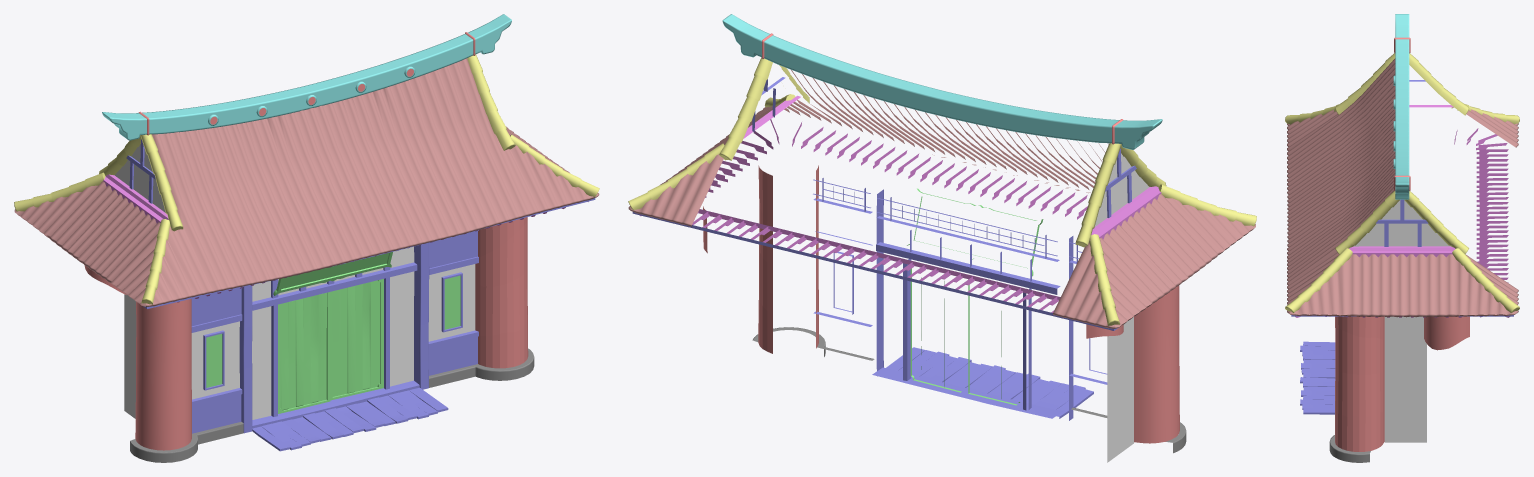
File: SM_ENV_LKNVLD_Hokage_Gate_Front.gltf
3 views of the same model, side by side, from view 1: azimuth 30°, elevation 25°; view 2: azimuth 150°, elevation 25°; view 3: azimuth 270°, elevation 25° (orthographic). The views are drawn at different scales.
Visible parts, largest first — view 1: SM_ENV_LKNVLD_Hokage_Gate_Front; view 2: SM_ENV_LKNVLD_Hokage_Gate_Front; view 3: SM_ENV_LKNVLD_Hokage_Gate_Front.
Part boxes in pixels (x1=…): SM_ENV_LKNVLD_Hokage_Gate_Front: x1=14, y1=14, x2=599, y2=462; SM_ENV_LKNVLD_Hokage_Gate_Front: x1=628, y1=14, x2=1256, y2=462; SM_ENV_LKNVLD_Hokage_Gate_Front: x1=1285, y1=14, x2=1519, y2=462.
Size of the model in its own units: 16.34 by 11.08 by 8.37.
